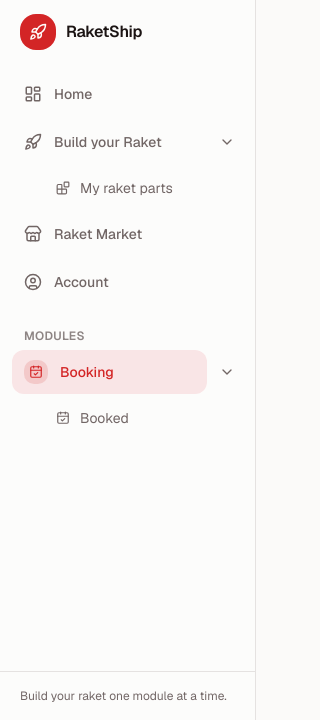
Test case: module pages, and folding them away › folds them away and back
What coordinates should you click on to do the following:
click the button named "mga pahina ng Booking"
I would click on:
 (227, 372)
Its box is [211,356,243,388].
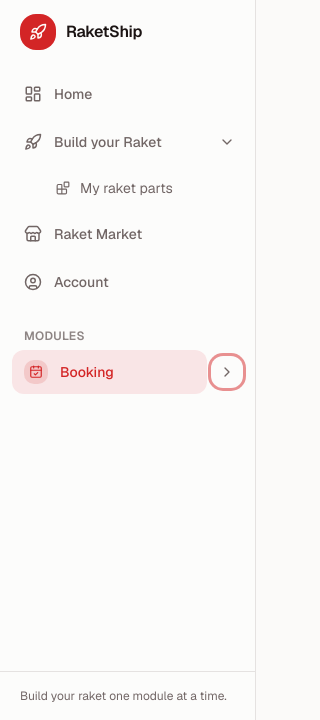
Result: the button named "mga pahina ng Booking" is collapsed
Result: the link "Booked" is gone
What coordinates should you click on to do the following:
click the button named "mga pahina ng Booking"
I would click on:
 (227, 372)
Its box is [211,356,243,388].
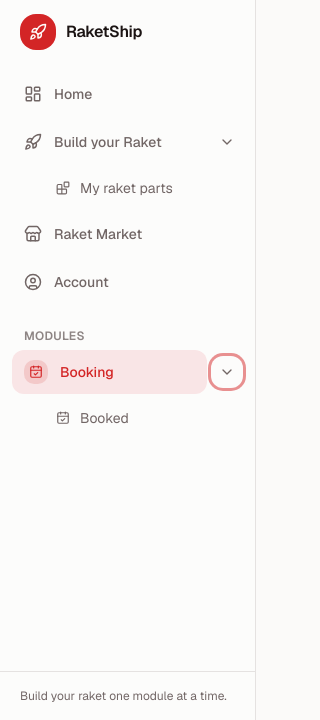
Result: the link "Booked" is shown at [56,409,129,427]
